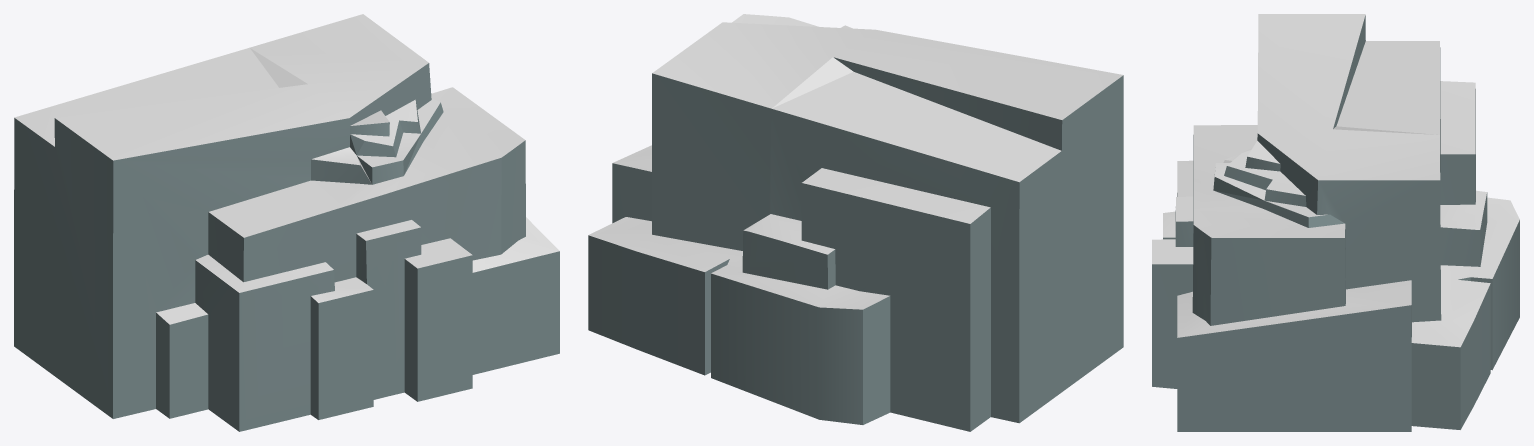
The model's file is SM_Cliff_B.fbx.
The picture shows the model from 3 angles, left to right: view 1: azimuth 30°, elevation 25°; view 2: azimuth 150°, elevation 25°; view 3: azimuth 270°, elevation 25°; orthographic projection. The views are drawn at different scales.
Parts seen in each view (by area): view 1: Cube.042; view 2: Cube.042; view 3: Cube.042.
Boxes of the visible parts, left/top/right/bottom form: Cube.042: left=14, top=14, right=559, bottom=431; Cube.042: left=588, top=14, right=1123, bottom=431; Cube.042: left=1152, top=14, right=1519, bottom=431.
Bounding box in the file's own units: 469 × 293 × 405.
